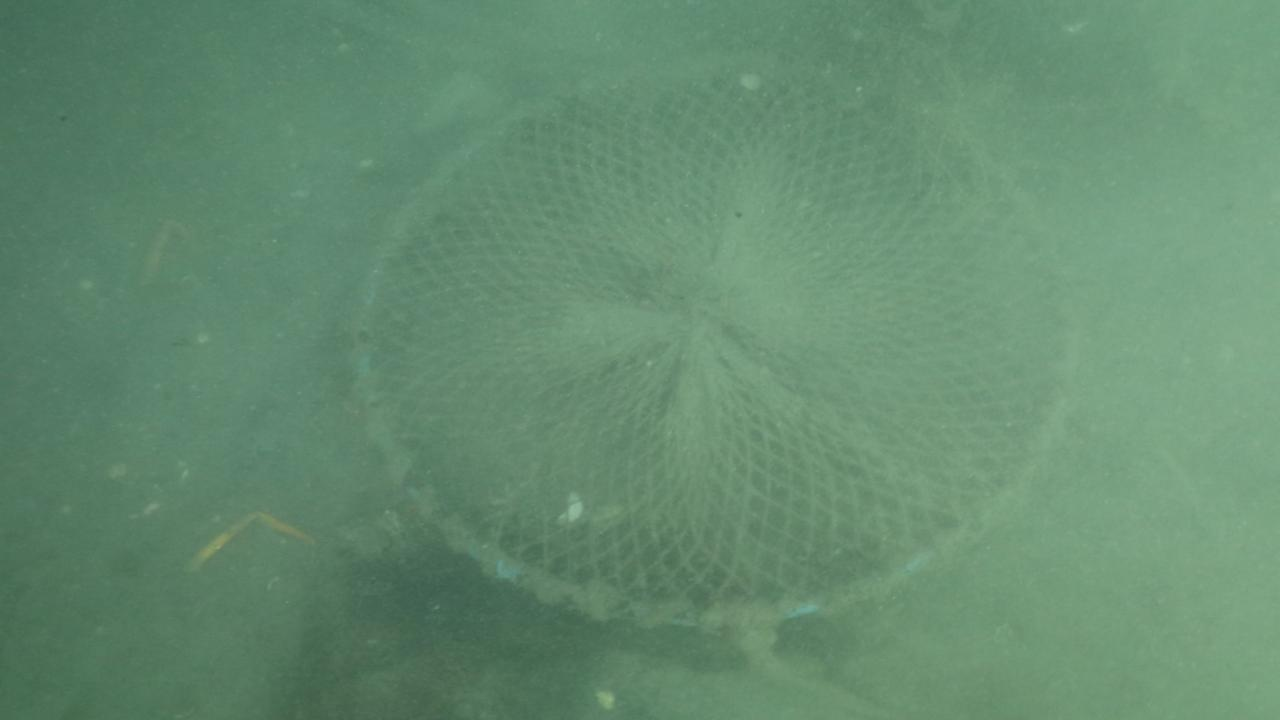circular fish trap: (345, 40, 1108, 638)
